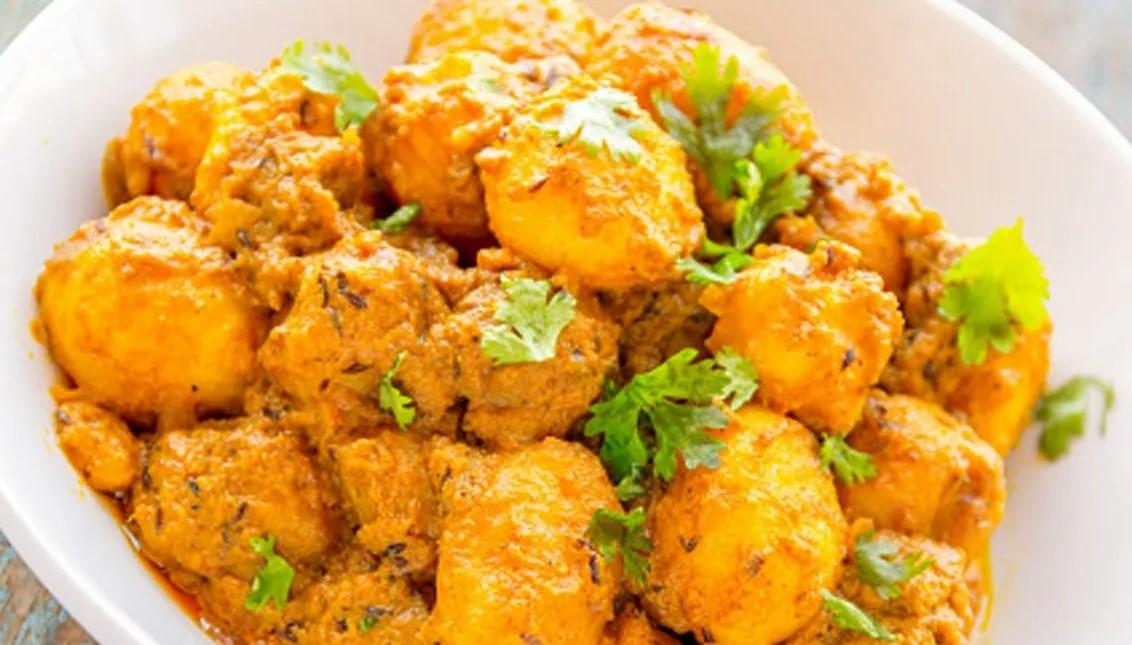DumAloo: (28, 0, 1132, 645)
